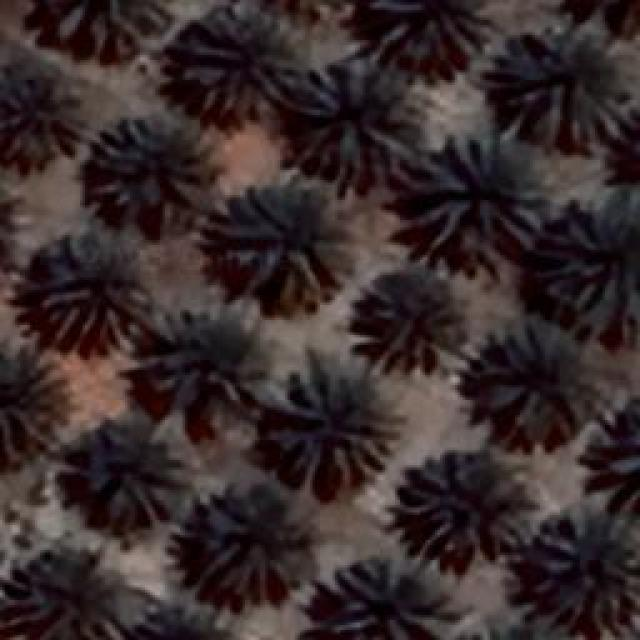PalmTree: (57, 98, 612, 455), (397, 132, 545, 266), (285, 57, 425, 195), (262, 350, 400, 488), (500, 20, 632, 148), (220, 182, 352, 310), (398, 445, 542, 560), (347, 260, 475, 378), (475, 320, 595, 445), (38, 222, 152, 352), (198, 478, 312, 608), (138, 300, 268, 410), (528, 507, 638, 635), (88, 110, 222, 215), (178, 8, 300, 120), (80, 410, 198, 525), (542, 190, 638, 328), (0, 560, 158, 638), (324, 552, 458, 638), (50, 0, 180, 60), (0, 58, 75, 160), (370, 0, 492, 60), (126, 605, 237, 640), (446, 615, 587, 640), (0, 164, 26, 291), (566, 0, 640, 30), (0, 162, 16, 284), (0, 163, 11, 278)
